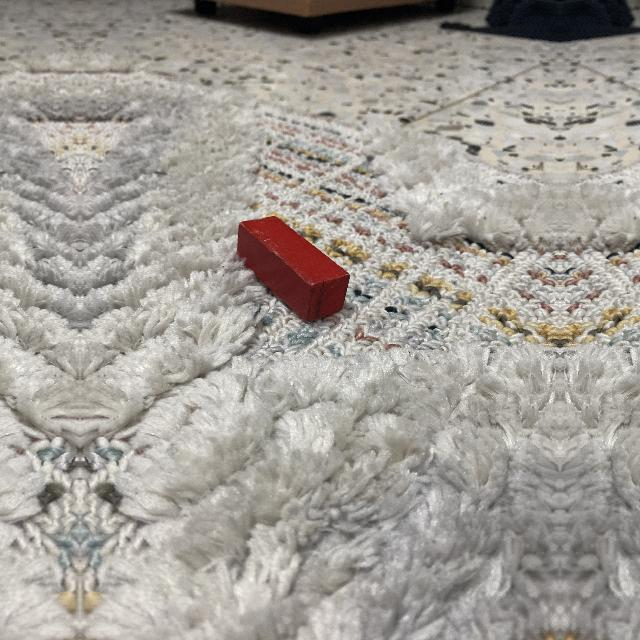red block: (236, 217, 349, 326)
